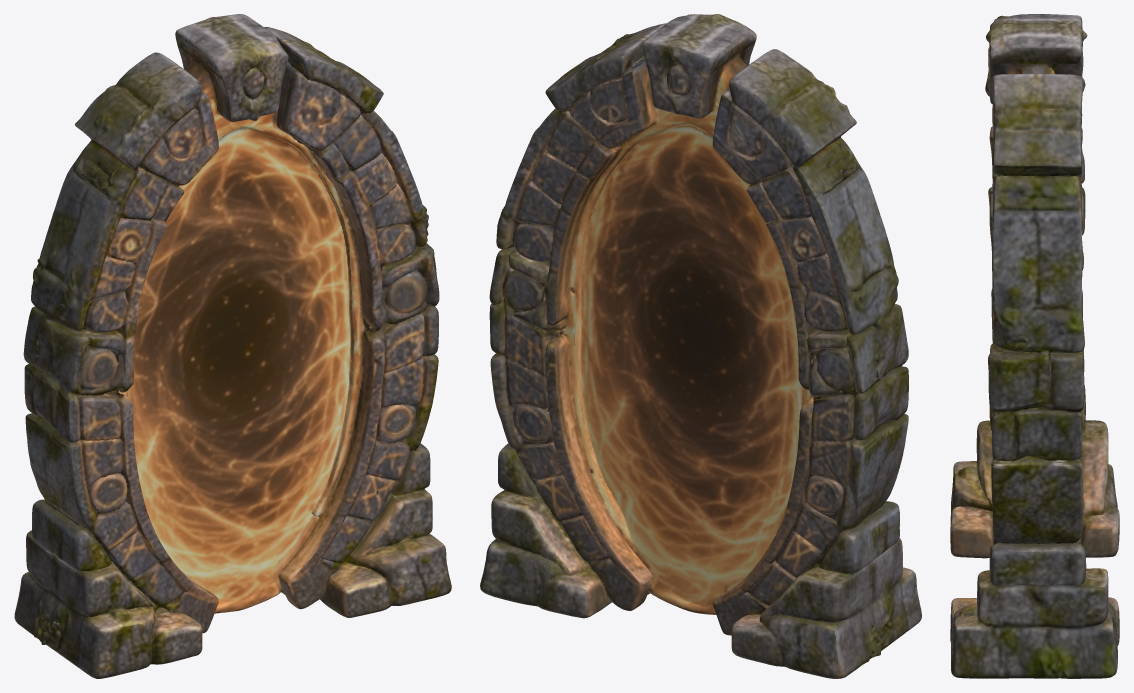
Rendered from PortalOn_01.fbx.
3 views of the same model, side by side, from view 1: azimuth 30°, elevation 25°; view 2: azimuth 150°, elevation 25°; view 3: azimuth 270°, elevation 25° (orthographic). The views are drawn at different scales.
Parts seen in each view (by area): view 1: geometry_0; view 2: geometry_0; view 3: geometry_0.
Boxes of the visible parts, x1,y1,x2,y2 form: geometry_0: [14, 14, 451, 678]; geometry_0: [480, 14, 921, 678]; geometry_0: [950, 14, 1119, 678].
Bounding box in the file's own units: 82.38 × 120 × 32.36.
